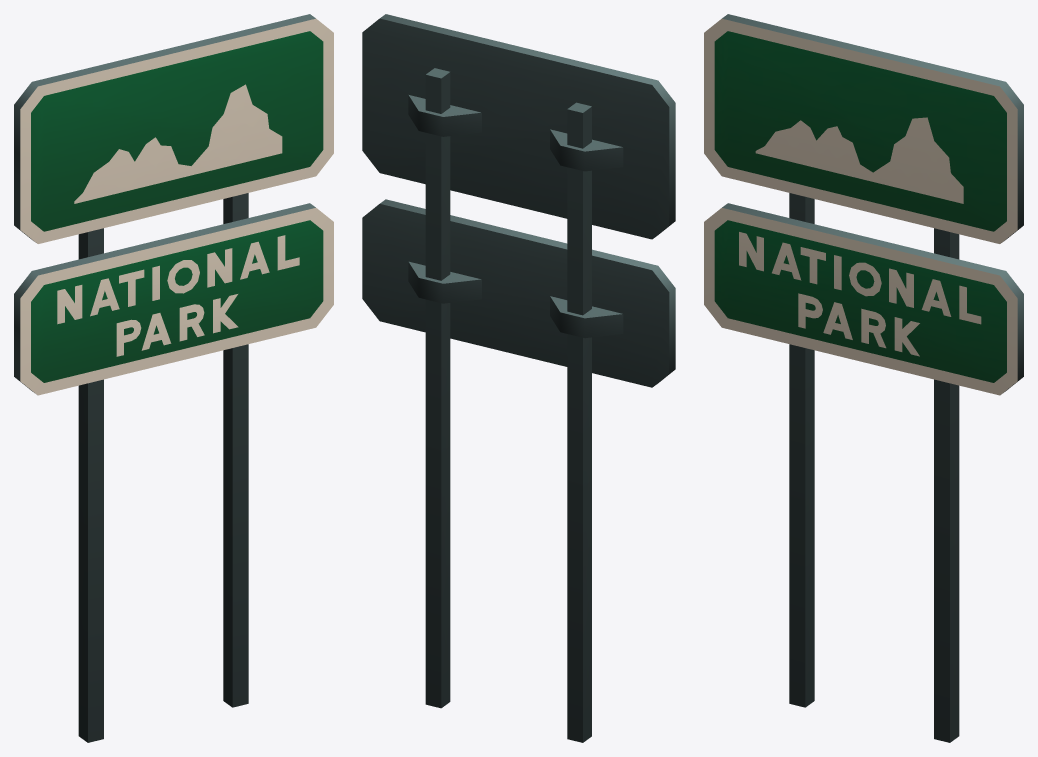
File: Streetsign_4B.fbx
The picture shows the model from 3 angles, left to right: view 1: azimuth 30°, elevation 25°; view 2: azimuth 150°, elevation 25°; view 3: azimuth 330°, elevation 25°; orthographic projection. The views are drawn at different scales.
Parts seen in each view (by area): view 1: Streetsign_4B; view 2: Streetsign_4B; view 3: Streetsign_4B.
Part boxes in pixels (x1,y1,x2,y2): Streetsign_4B: [14, 14, 333, 742]; Streetsign_4B: [362, 14, 675, 742]; Streetsign_4B: [704, 14, 1023, 742].
Size of the model in its own units: 173 by 358 by 20.83.
